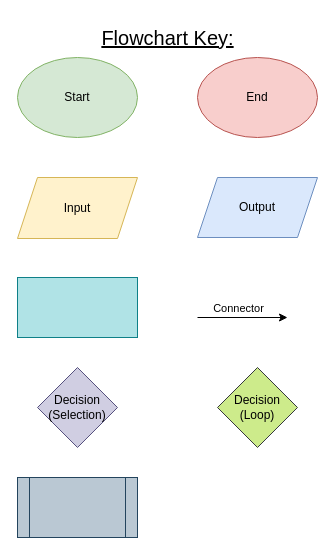
Image size: 335x555. Some labels were removed from this diagram. The shapes that lost their labels are listed below. From the top down, each one's centre as x and y in pixels, then its label:
point (77, 307): Proccesing
point (77, 507): Procedure / Function
